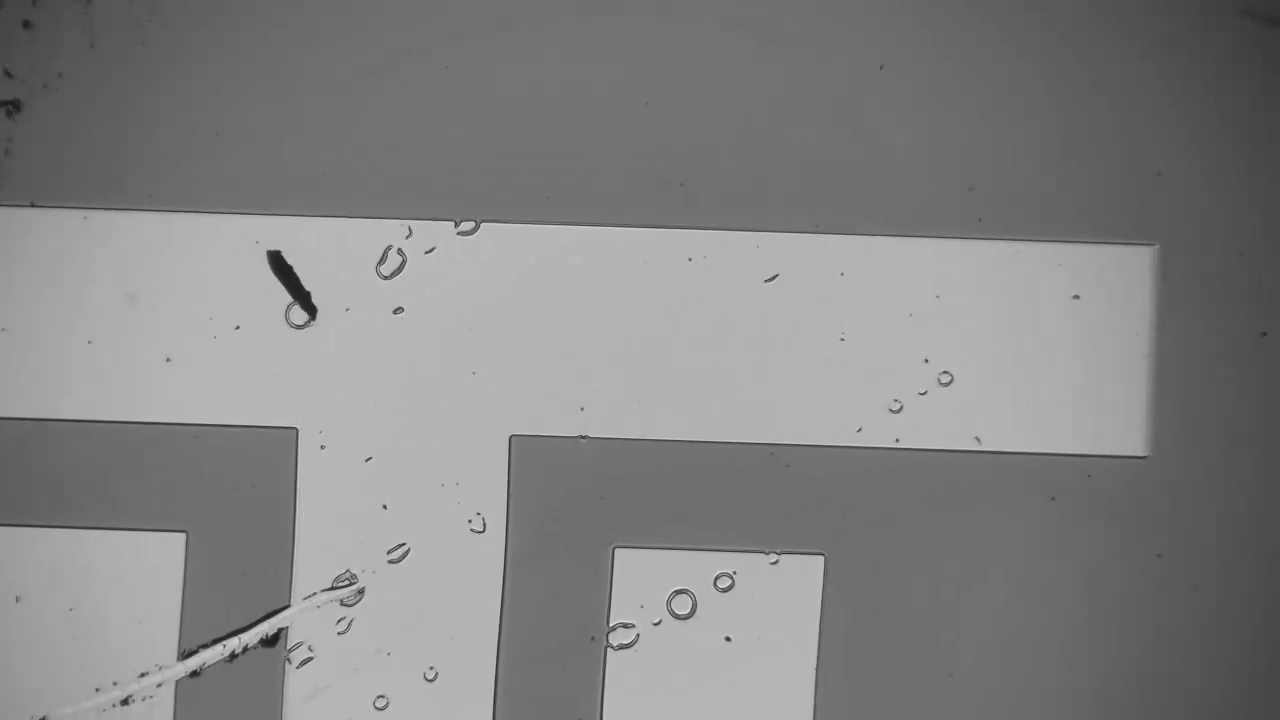Short_circuit: (143, 574, 310, 708)
